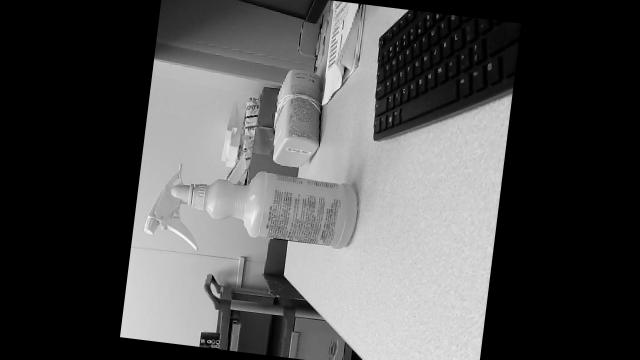StarSpray: (144, 163, 359, 248)
